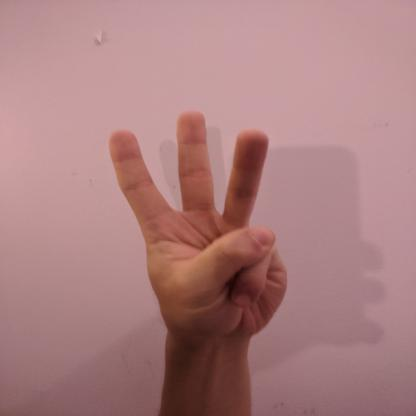W: (104, 107, 292, 340)
